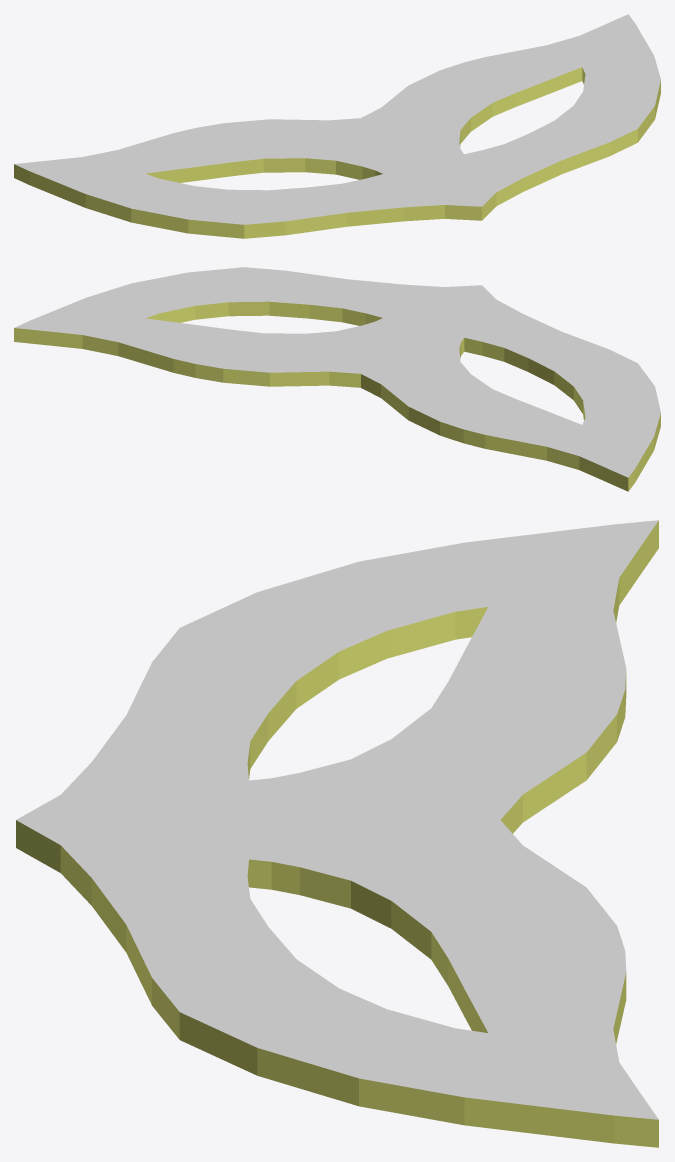
File: Carnival _Mask_02.fbx
The picture shows the model from 3 angles, top to bottom: view 1: azimuth 30°, elevation 25°; view 2: azimuth 150°, elevation 25°; view 3: azimuth 270°, elevation 25°; orthographic projection. The views are drawn at different scales.
Visible parts, largest first — view 1: Carnival _Mask_02; view 2: Carnival _Mask_02; view 3: Carnival _Mask_02.
Part boxes in pixels (x1,y1,x2,y2): Carnival _Mask_02: (14,14,660,238); Carnival _Mask_02: (14,267,660,491); Carnival _Mask_02: (16,520,658,1147).
Size of the model in its own units: 161 by 3.51 by 73.09.
